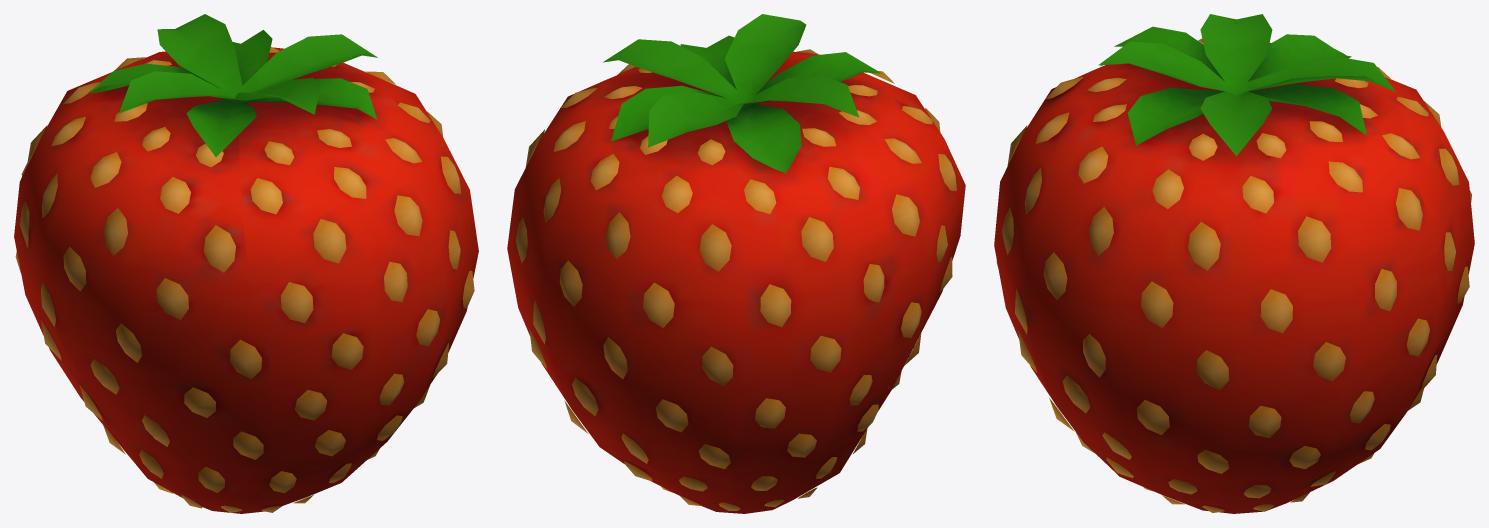
File: StrawberryL.obj
The picture shows the model from 3 angles, left to right: view 1: azimuth 30°, elevation 25°; view 2: azimuth 150°, elevation 25°; view 3: azimuth 270°, elevation 25°; orthographic projection. The views are drawn at different scales.
Visible parts, largest first — view 1: Strawberry; view 2: Strawberry; view 3: Strawberry.
Part boxes in pixels (x1=…): Strawberry: x1=14, y1=14, x2=478, y2=513; Strawberry: x1=507, y1=14, x2=965, y2=513; Strawberry: x1=994, y1=14, x2=1474, y2=513.
Size of the model in its own units: 0.7547 by 0.8024 by 0.7767.
1 material, 1 textured.
